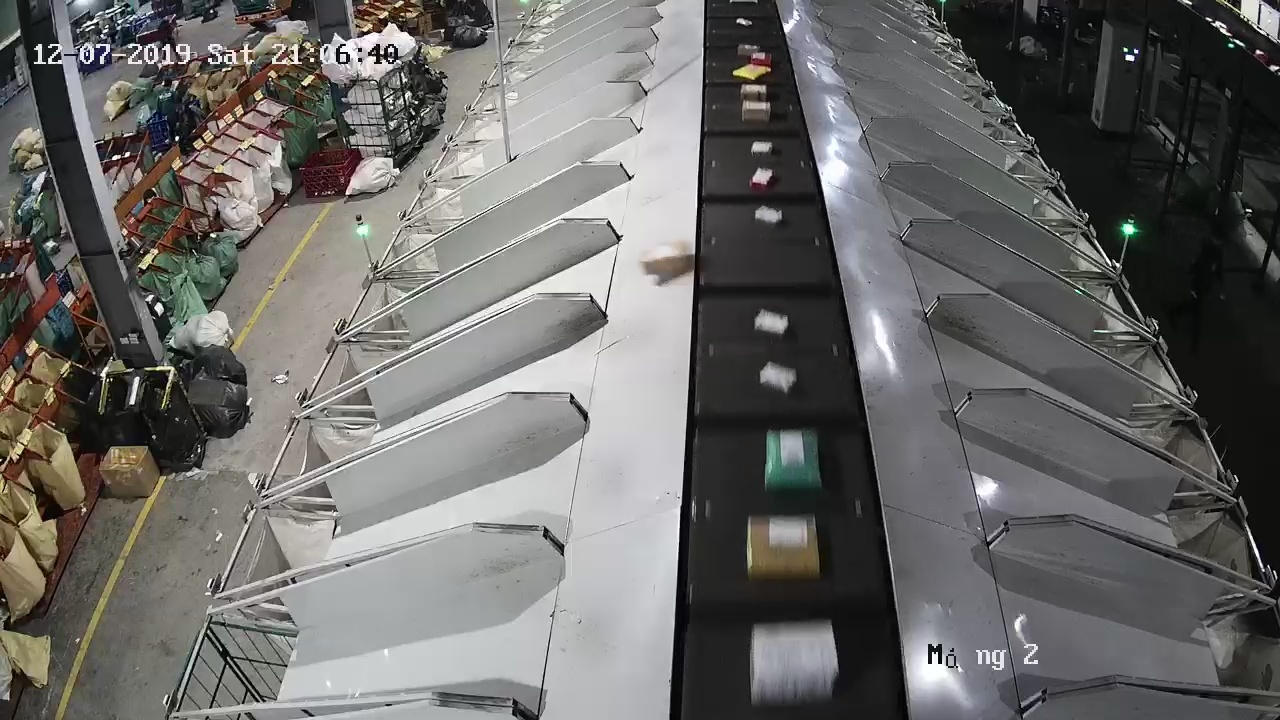parcel: (639, 237, 689, 276)
